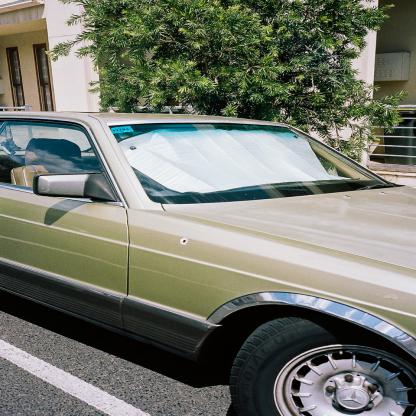Car: (1, 106, 410, 410)
